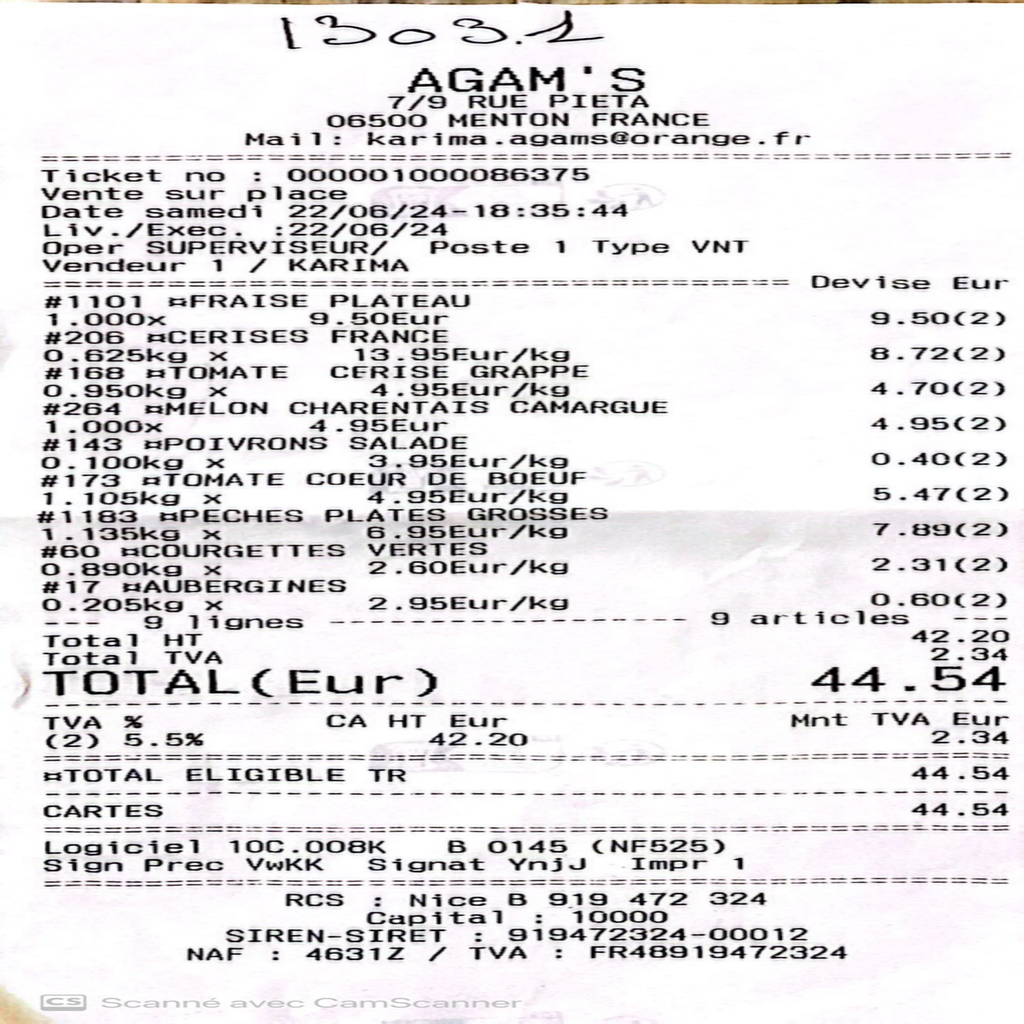recipt: (0, 0, 1022, 1022)
